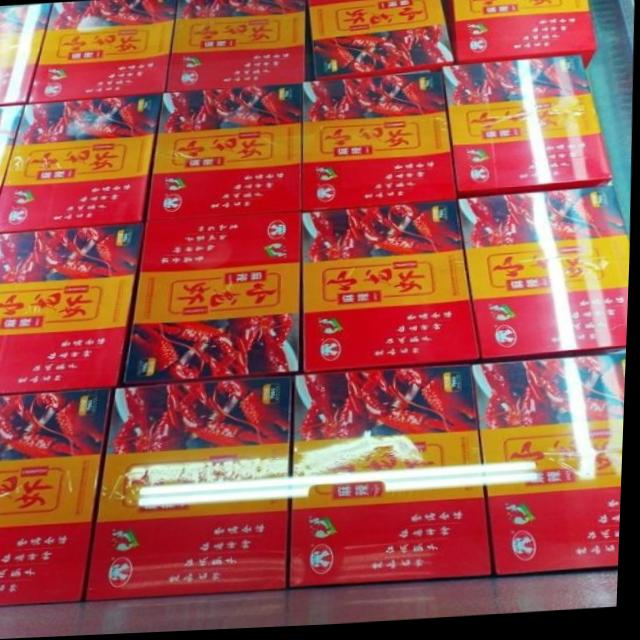box: (87, 375, 297, 603), (291, 368, 497, 591), (475, 358, 629, 580), (302, 203, 484, 375), (124, 214, 304, 387), (459, 190, 630, 367), (0, 388, 117, 606), (0, 224, 147, 394), (443, 59, 614, 202), (0, 94, 162, 233), (303, 73, 459, 214), (145, 84, 303, 222), (25, 0, 176, 103), (165, 0, 306, 94), (306, 0, 456, 83), (442, 0, 598, 74), (0, 3, 52, 104), (0, 103, 25, 195)
